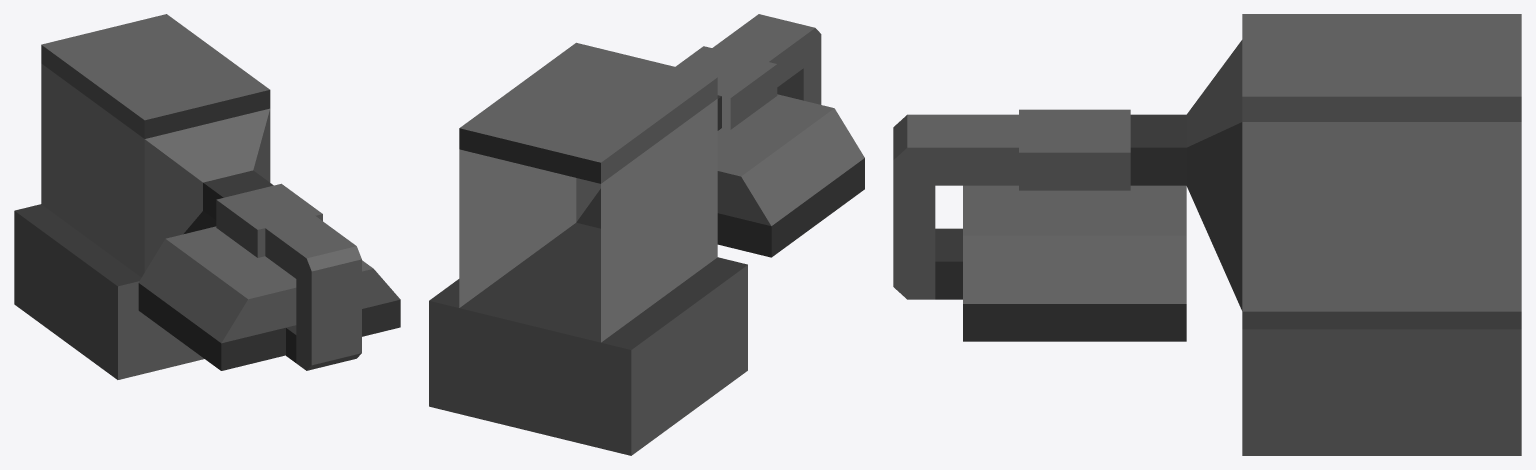
The model's file is Owen.fbx.
3 renders of one model, left to right at view 1: azimuth 30°, elevation 25°; view 2: azimuth 150°, elevation 25°; view 3: azimuth 270°, elevation 25°, orthographic. The views are drawn at different scales.
Parts seen in each view (by area): view 1: OwenLOD2; view 2: OwenLOD2; view 3: OwenLOD2.
Part boxes in pixels (left/top/right/bottom): OwenLOD2: left=14, top=14, right=400, bottom=379; OwenLOD2: left=429, top=14, right=864, bottom=455; OwenLOD2: left=893, top=14, right=1521, bottom=455.
Size of the model in its own units: 100 by 135 by 225.
